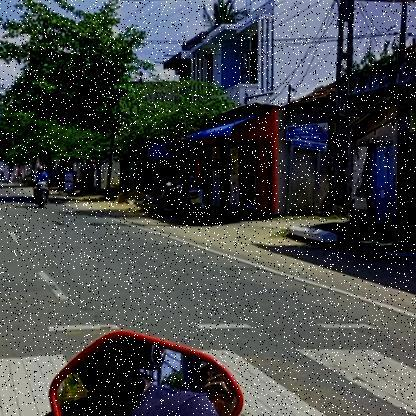motorcycle: (30, 179, 52, 210)
